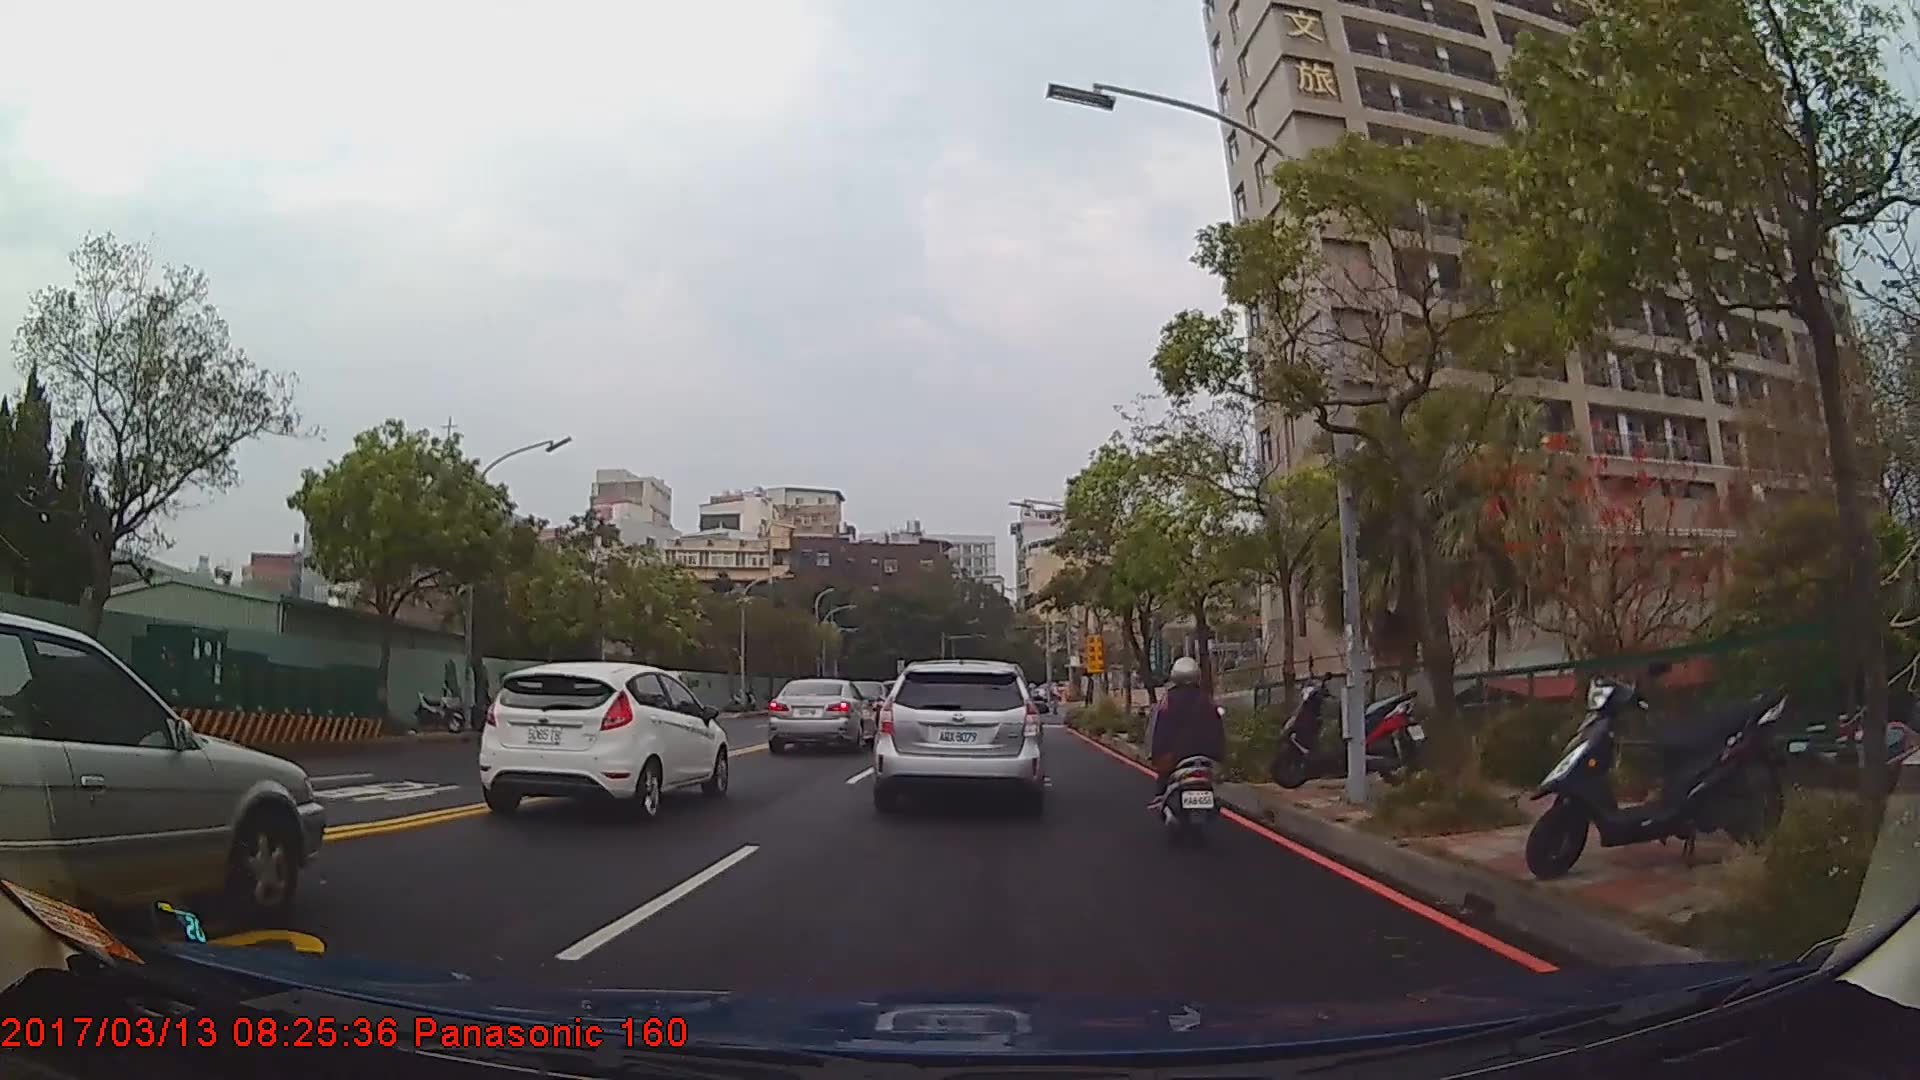rider: (1147, 658, 1222, 848)
vehicle: (0, 610, 322, 936), (478, 659, 728, 824), (874, 658, 1044, 817), (768, 677, 879, 755)
